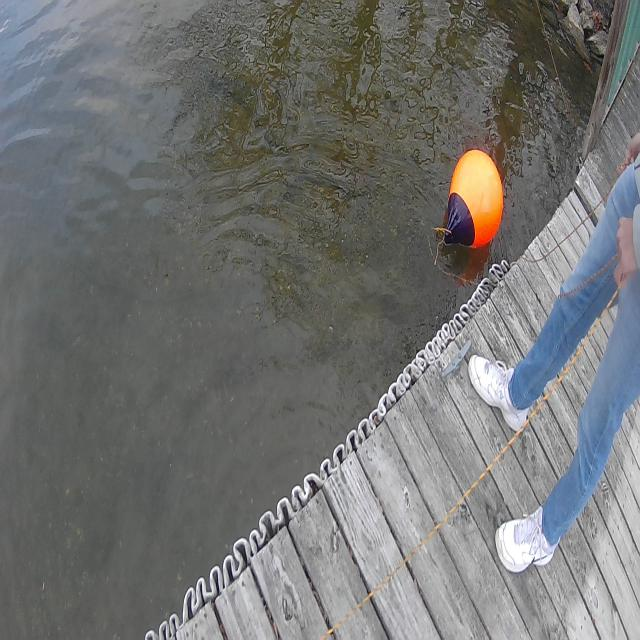Buoy: (430, 130, 509, 270)
